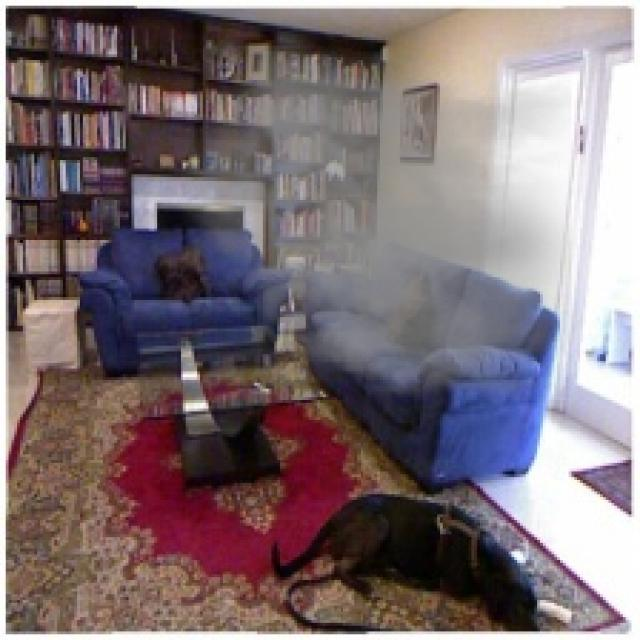smoke: (166, 46, 571, 397)
